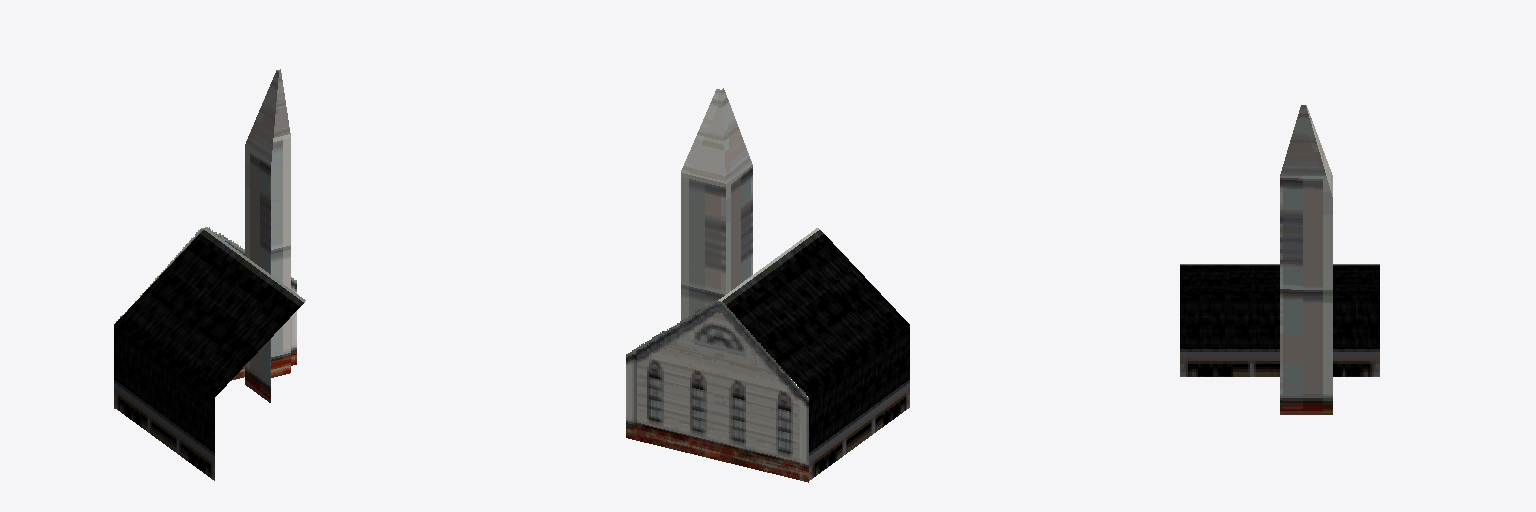
The picture shows the model from 3 angles: view 1: azimuth 30°, elevation 25°; view 2: azimuth 150°, elevation 25°; view 3: azimuth 270°, elevation 25°; orthographic projection.
Size of the model in its own units: 360 by 630 by 342.
1 materials, 1 textured.